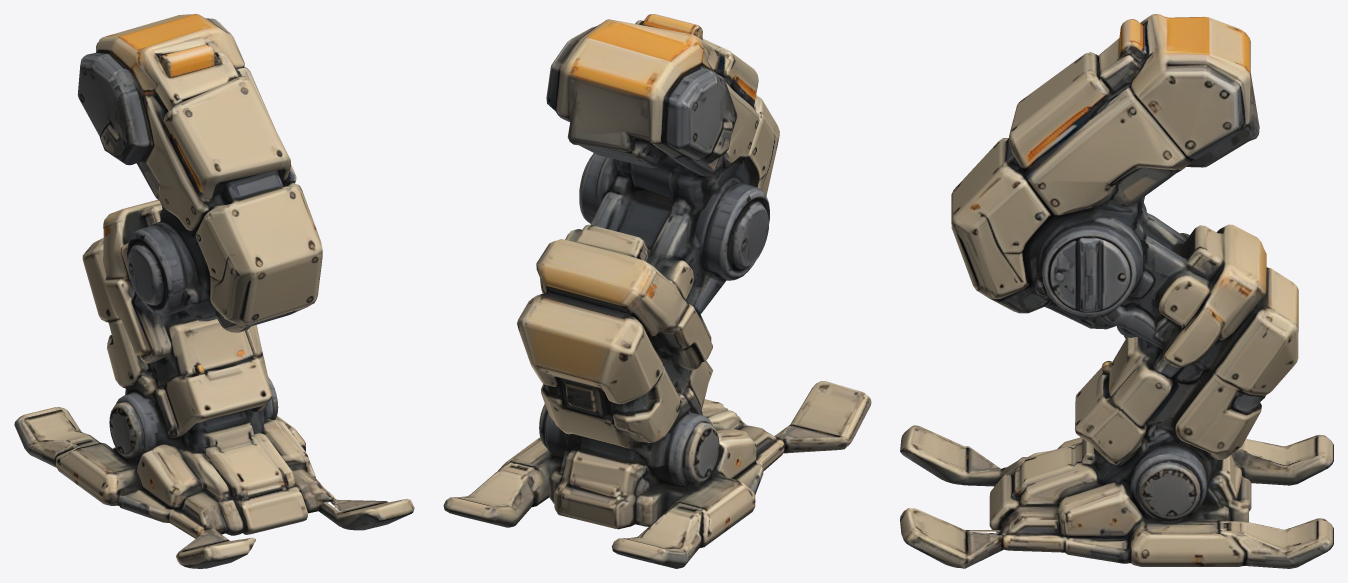
The model's file is 03_Left_Leg.glb.
3 views of the same model, side by side, from view 1: azimuth 30°, elevation 25°; view 2: azimuth 150°, elevation 25°; view 3: azimuth 270°, elevation 25° (orthographic). The views are drawn at different scales.
Visible parts, largest first — view 1: 03_Left_Leg; view 2: 03_Left_Leg; view 3: 03_Left_Leg.
Boxes of the visible parts, x1,y1,x2,y2 form: 03_Left_Leg: [14, 14, 414, 568]; 03_Left_Leg: [443, 14, 871, 568]; 03_Left_Leg: [900, 14, 1333, 568].
Size of the model in its own units: 0.5063 by 0.9995 by 0.8257.
Materials: 1 (1 with a texture image).
